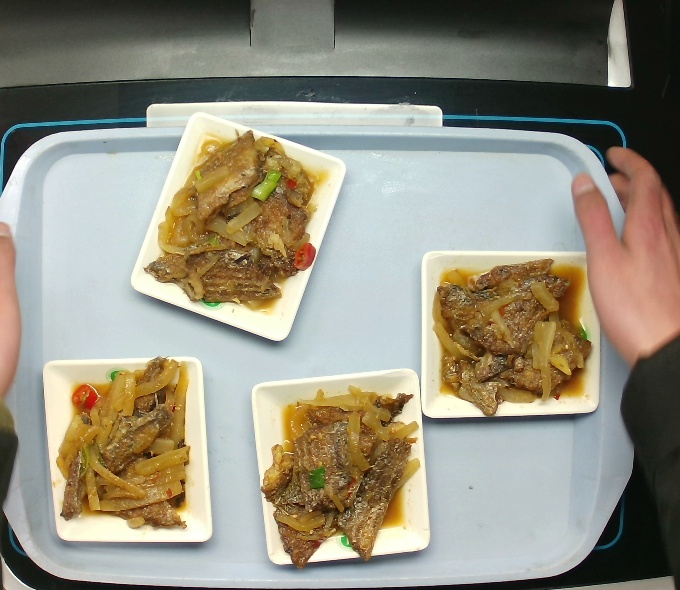wcq-DaiYu: (149, 133, 311, 311), (264, 385, 416, 561), (58, 363, 190, 524), (439, 263, 584, 402)
